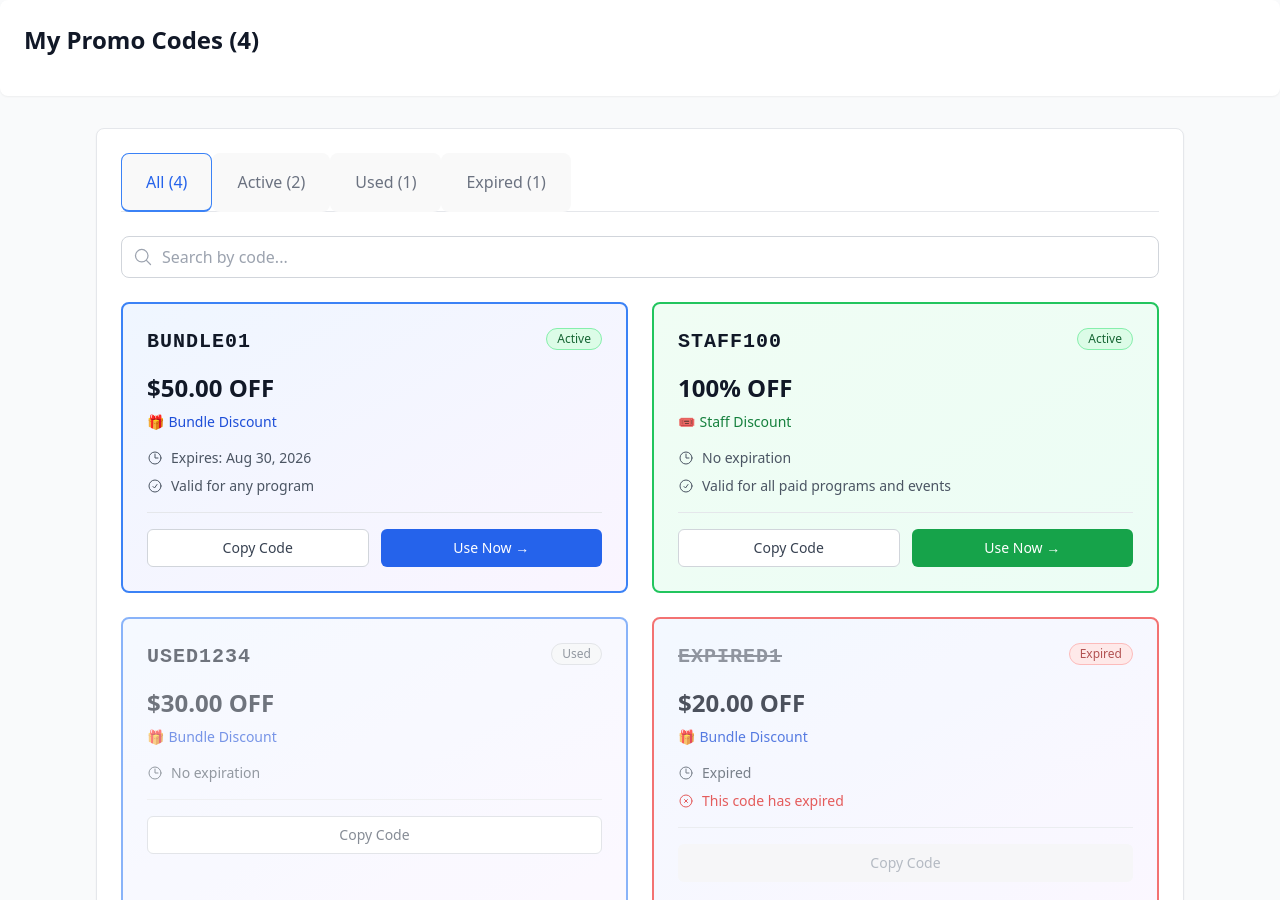
Test: MyPromoCodes Page › Filtering › filters to show only active codes
Expected: the text "BUNDLE01" is shown, [147, 330, 251, 353]
Click the button "Active (2)": (271, 182) [212, 153, 330, 212]
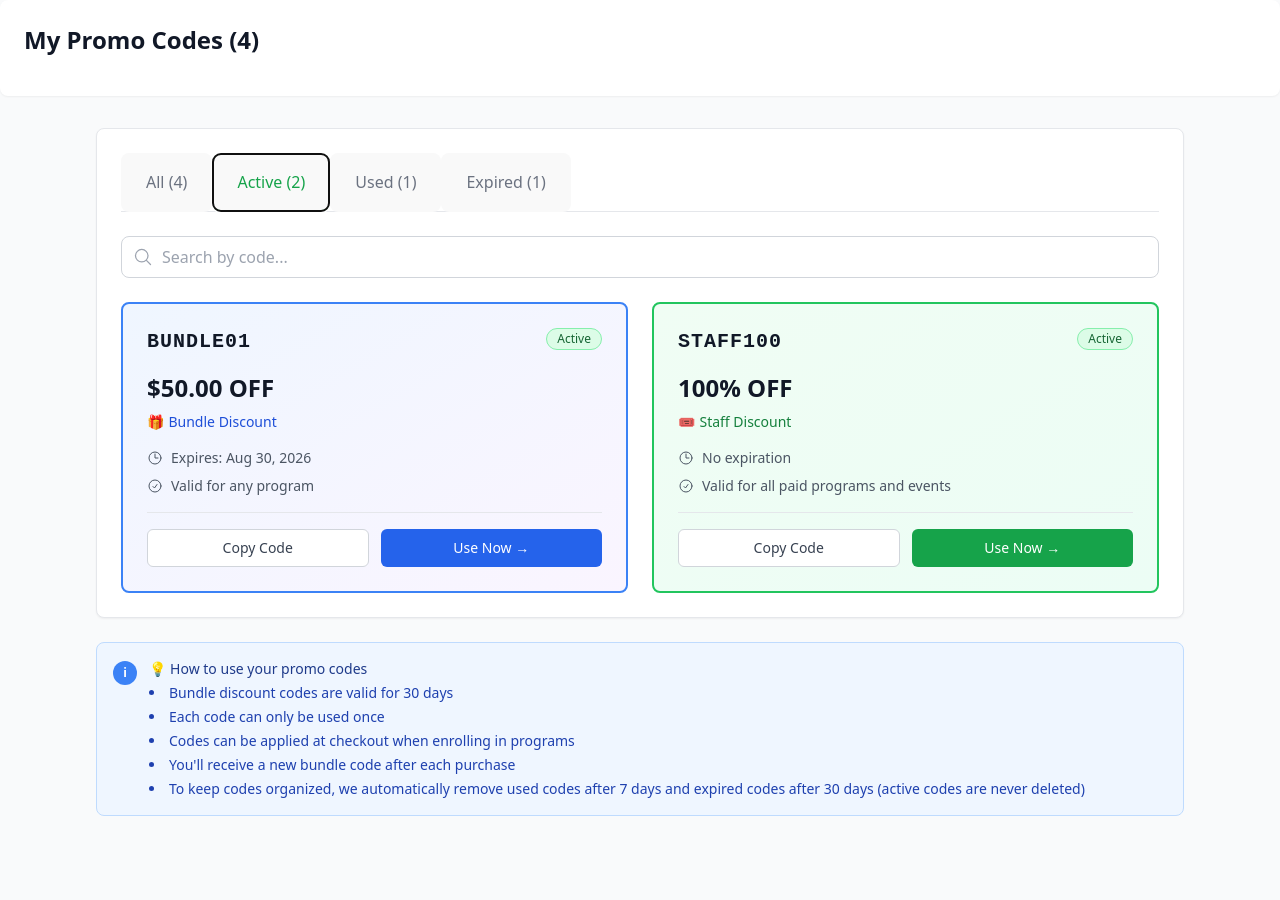
Expected: the text "BUNDLE01" is shown, [147, 330, 251, 353]
Now the text "USED1234" is gone
Now the text "EXPIRED1" is gone
